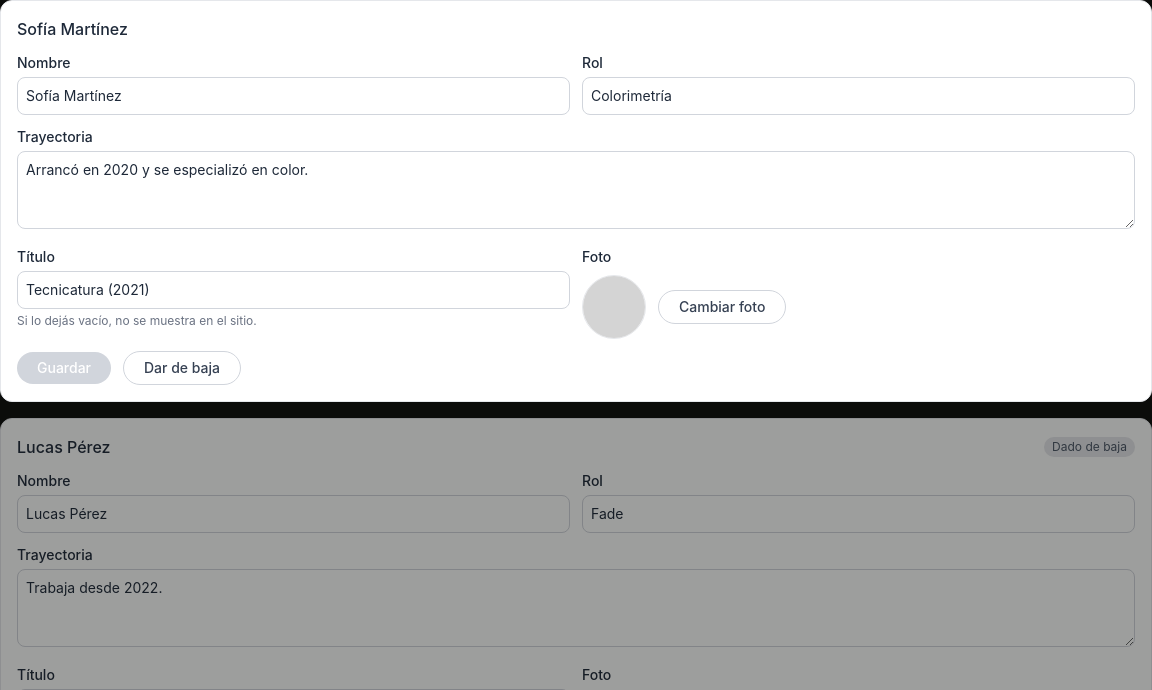
Test: SeccionStaffComponent › guardar un perfil › si falla muestra el error a la vista y NO muestra ninguna confirmación
Replace the text in the field labelled "Nombre" below "Sofía Martínez" with "Sofía G. Martínez" at (294, 96), box left=17, top=77, right=570, bottom=115
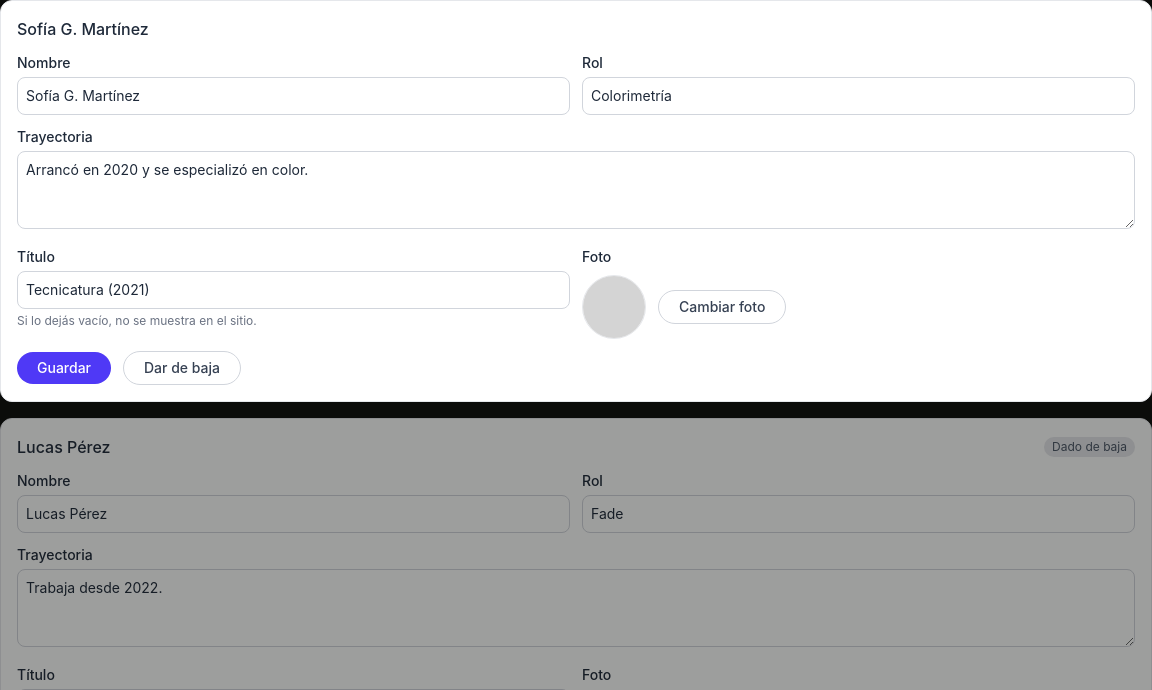
Click the button "Guardar" at (64, 368), box left=17, top=352, right=111, bottom=384
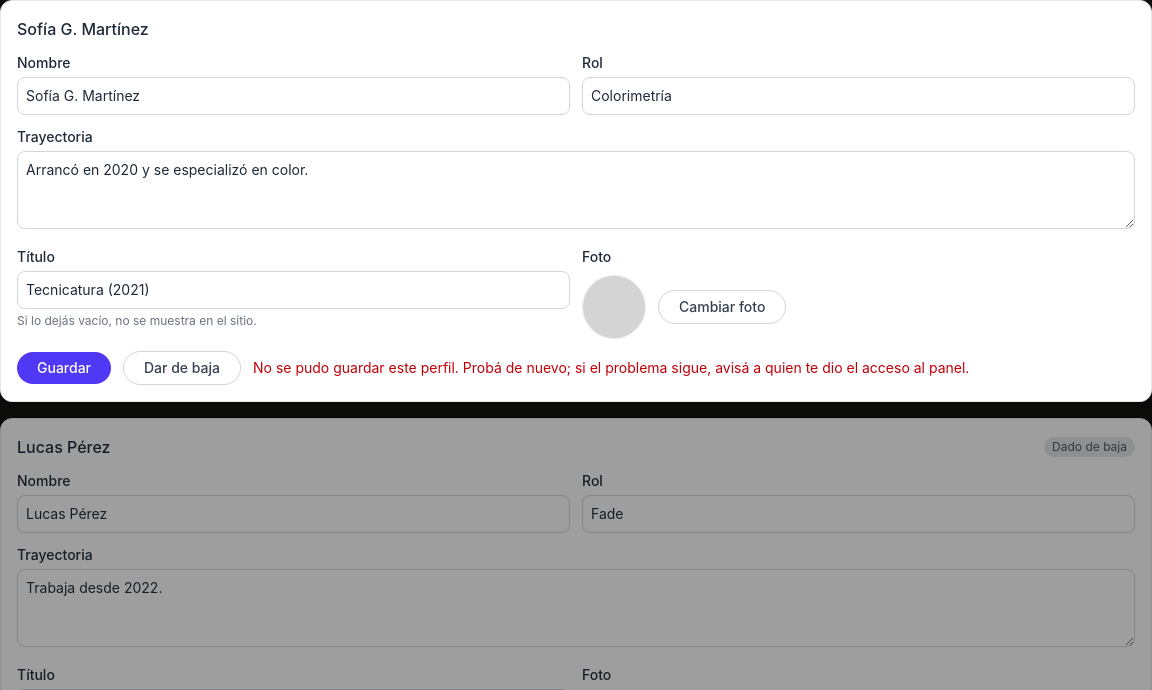
Expected: the text "No se pudo guardar este perfil" is shown, left=253, top=359, right=969, bottom=376
